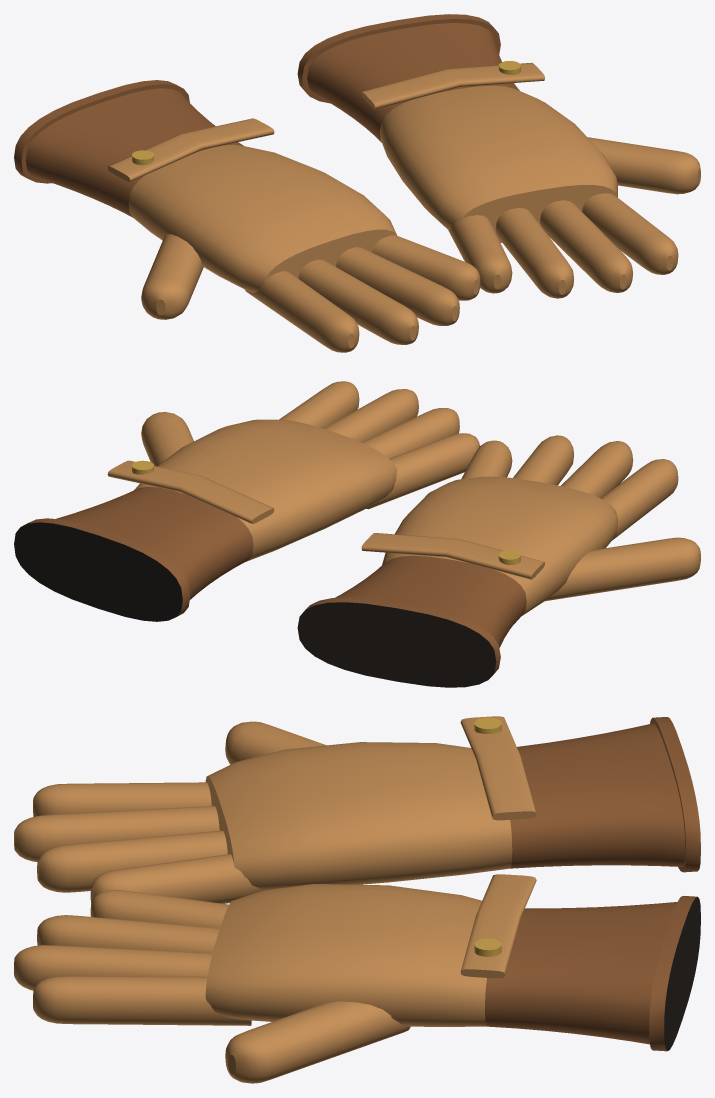
Rendered from leather-work-gloves.glb.
The picture shows the model from 3 angles, top to bottom: view 1: azimuth 30°, elevation 25°; view 2: azimuth 150°, elevation 25°; view 3: azimuth 270°, elevation 25°; orthographic projection. The views are drawn at different scales.
Parts seen in each view (by area): view 1: Leather_Work_Gloves; view 2: Leather_Work_Gloves; view 3: Leather_Work_Gloves.
Part boxes in pixels (x1,y1,x2,y2): Leather_Work_Gloves: (14, 14, 700, 352); Leather_Work_Gloves: (14, 381, 700, 687); Leather_Work_Gloves: (14, 716, 700, 1083).
Size of the model in its own units: 0.3141 by 0.0423 by 0.2736.
